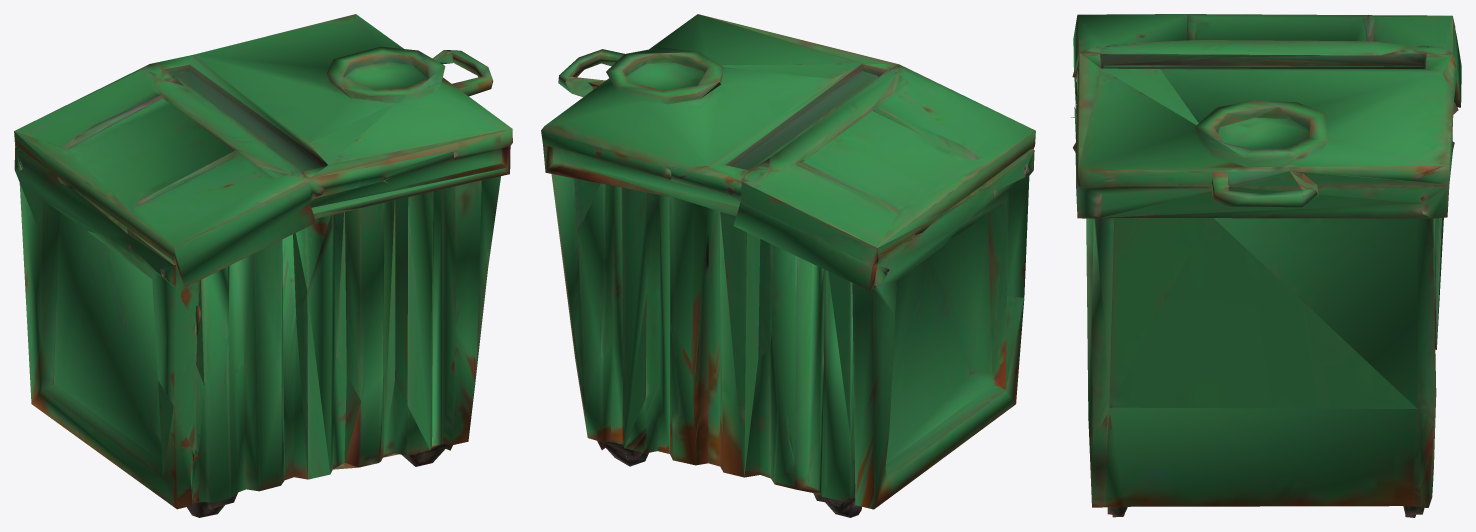
File: k-dumpster.lod1.glb
3 views of the same model, side by side, from view 1: azimuth 30°, elevation 25°; view 2: azimuth 150°, elevation 25°; view 3: azimuth 270°, elevation 25° (orthographic). The views are drawn at different scales.
Parts seen in each view (by area): view 1: k-dumpster; view 2: k-dumpster; view 3: k-dumpster.
Boxes of the visible parts, left/top/right/bottom form: k-dumpster: left=14, top=14, right=512, bottom=517; k-dumpster: left=541, top=14, right=1035, bottom=517; k-dumpster: left=1071, top=14, right=1461, bottom=517.
Bounding box in the file's own units: 2 × 1.68 × 1.5.
1 material, 1 textured.
